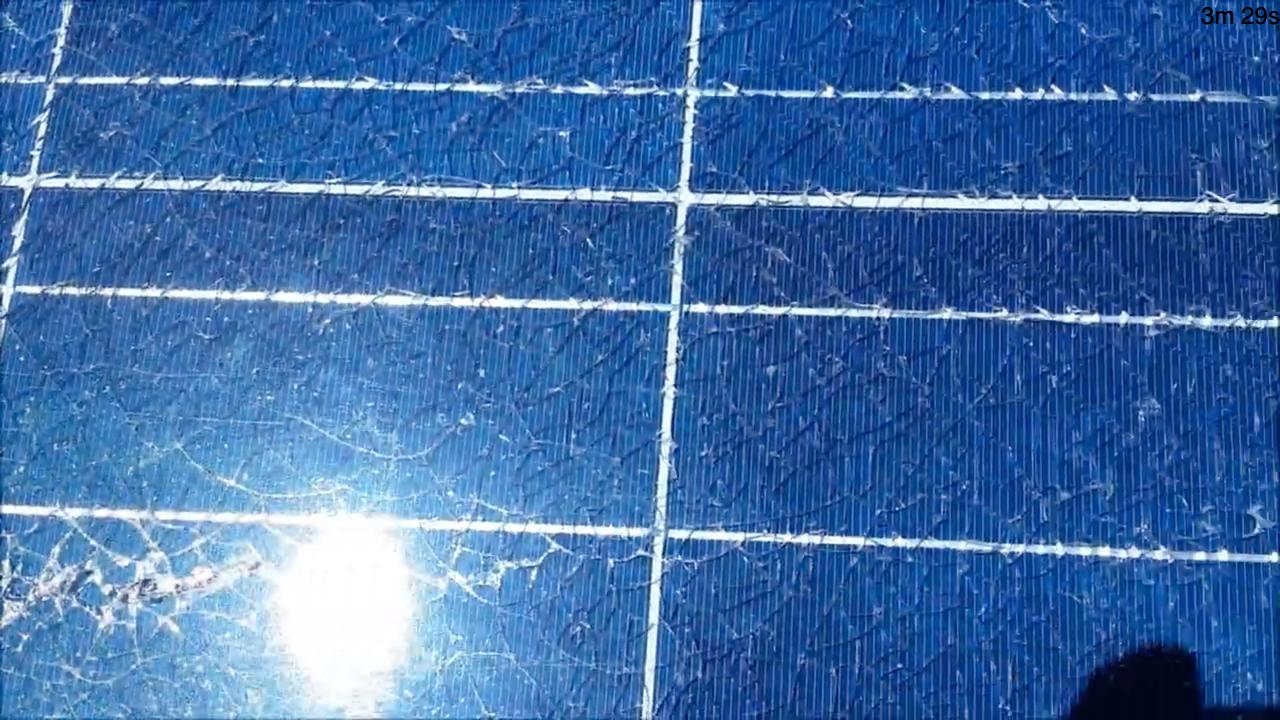Crack: (10, 495, 244, 680)
